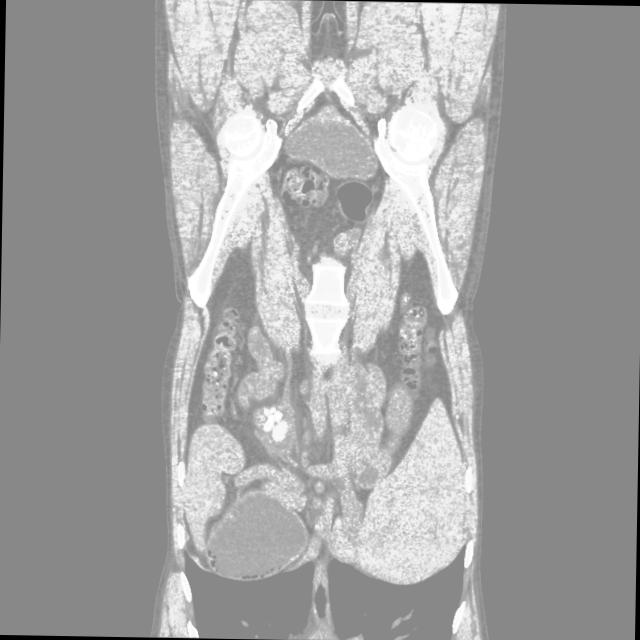STONE: (159, 164, 517, 469)
